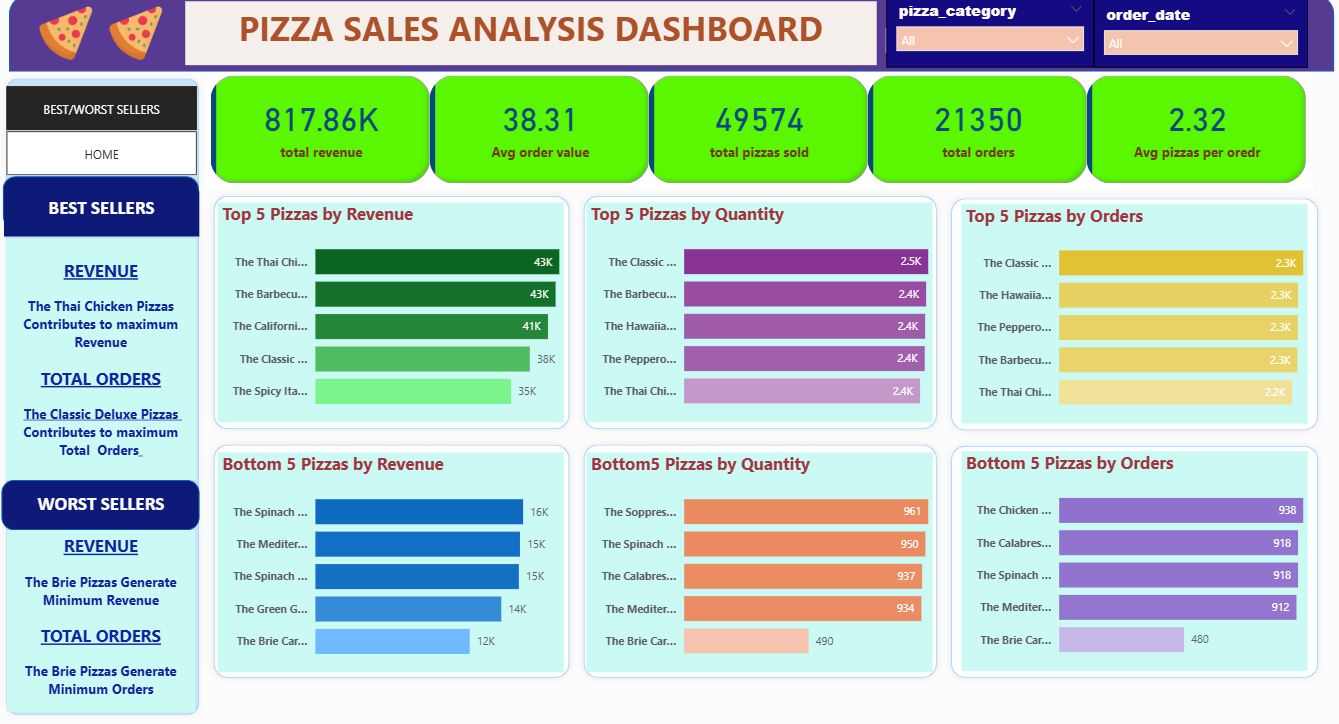

What the dashboard file says about the page in this screenshot:
{"tool":"powerbi","page":{"name":"BEST/WORST SELLERS","canvas":[1500,820],"ordinal":1},"visuals":[{"type":"cardVisual","fields":{"Data":["pizza_sales.total revenue","pizza_sales.Avg order value","pizza_sales.total pizzas sold","pizza_sales.total orders","pizza_sales.Avg pizzas per oredr"]},"box":[231.2,85,1232.5,130.9],"z":0},{"type":"shape","box":[11.8,0,1476.5,85.3],"z":1000},{"type":"shape","box":[231.2,215.9,412.2,275.7],"z":2000},{"type":"shape","box":[0,85.3,230.9,725],"z":3000},{"type":"shape","box":[4.2,201.9,218.6,58.5],"z":4000},{"type":"textbox","box":[5.6,218.6,217.3,50.1],"z":5000},{"type":"textbox","box":[7,271.6,213.1,268.8],"z":6000},{"type":"shape","box":[2.9,539.7,220.6,55.9],"z":7000},{"type":"textbox","box":[8.8,548.5,210.3,36.8],"z":8000},{"type":"textbox","box":[8.4,596.1,210.3,203.3],"z":9000},{"type":"slicer","fields":{"Values":["pizza_sales.pizza_category"]},"box":[977.9,2.9,230.9,77.9],"z":10000},{"type":"slicer","fields":{"Values":["pizza_sales.order_date"]},"box":[1208.8,7.4,238.2,77.9],"z":11000},{"type":"shape","box":[643.4,215.9,409.4,275.7],"z":12000},{"type":"shape","box":[1052.9,218.6,424.8,274.4],"z":13000},{"type":"shape","box":[231.2,493,412.2,275.7],"z":14000},{"type":"shape","box":[643.4,493,409.4,275.7],"z":15000},{"type":"shape","box":[1052.9,494.4,424.8,274.4],"z":16000},{"type":"barChart","title":"Top 5 Pizzas by Revenue","fields":{"Category":["pizza_sales.pizza_name"],"Y":["pizza_sales.total revenue"]},"box":[243.7,231.2,385.8,245.1],"z":17000},{"type":"barChart","title":"Bottom 5 Pizzas by Revenue","fields":{"Category":["pizza_sales.pizza_name"],"Y":["pizza_sales.total revenue"]},"box":[243.7,509.7,385.8,245.1],"z":18000},{"type":"barChart","title":"Top 5 Pizzas by Quantity","fields":{"Category":["pizza_sales.pizza_name"],"Y":["Sum(pizza_sales.quantity)"]},"box":[654.5,231.6,385.9,244.4],"z":19000},{"type":"barChart","title":"Bottom5 Pizzas by Quantity","fields":{"Category":["pizza_sales.pizza_name"],"Y":["Sum(pizza_sales.quantity)"]},"box":[654.5,509.8,385.9,244.4],"z":20000},{"type":"barChart","title":"Top 5 Pizzas by Orders","fields":{"Category":["pizza_sales.pizza_name"],"Y":["pizza_sales.total orders"]},"box":[1072.6,233.2,385.9,244.4],"z":21000},{"type":"barChart","title":"Bottom 5 Pizzas by Orders","fields":{"Category":["pizza_sales.pizza_name"],"Y":["pizza_sales.total orders"]},"box":[1072.6,508.1,385.9,244.4],"z":22000},{"type":"pageNavigator","box":[8,101.3,212.3,49.9],"z":23000},{"type":"pageNavigator","box":[8,151.2,212.3,49.9],"z":24000},{"type":"slicer","fields":{"Values":["pizza_sales.pizza_category"]},"box":[988.8,0,231.2,80.8],"z":25000},{"type":"slicer","fields":{"Values":["pizza_sales.order_date"]},"box":[1220,4.2,238.1,76.6],"z":26000},{"type":"image","box":[34.8,7,79.4,71],"z":27000},{"type":"image","box":[112.8,7,79.4,71],"z":28000},{"type":"textbox","box":[207.5,7,770.1,71],"z":29000}]}

Visuals, with their boxes in screenshot pixels (x1, y1, x2, y2), scaled from the page's 1500x820 canvas onto the 1339x724 screenshot:
cardVisual - pizza_sales.total revenue x pizza_sales.Avg order value: detection(206, 75, 1307, 191)
shape: detection(11, 0, 1329, 75)
shape: detection(206, 191, 574, 434)
shape: detection(0, 75, 206, 715)
shape: detection(4, 178, 199, 230)
textbox: detection(5, 193, 199, 237)
textbox: detection(6, 240, 196, 477)
shape: detection(3, 477, 200, 526)
textbox: detection(8, 484, 196, 517)
textbox: detection(7, 526, 195, 706)
slicer - pizza_sales.pizza_category: detection(873, 3, 1079, 71)
slicer - pizza_sales.order_date: detection(1079, 7, 1292, 75)
shape: detection(574, 191, 940, 434)
shape: detection(940, 193, 1319, 435)
shape: detection(206, 435, 574, 679)
shape: detection(574, 435, 940, 679)
shape: detection(940, 437, 1319, 679)
"Top 5 Pizzas by Revenue" barChart: detection(218, 204, 562, 421)
"Bottom 5 Pizzas by Revenue" barChart: detection(218, 450, 562, 666)
"Top 5 Pizzas by Quantity" barChart: detection(584, 204, 929, 420)
"Bottom5 Pizzas by Quantity" barChart: detection(584, 450, 929, 666)
"Top 5 Pizzas by Orders" barChart: detection(957, 206, 1302, 422)
"Bottom 5 Pizzas by Orders" barChart: detection(957, 449, 1302, 664)
pageNavigator: detection(7, 89, 197, 133)
pageNavigator: detection(7, 133, 197, 178)
slicer - pizza_sales.pizza_category: detection(883, 0, 1089, 71)
slicer - pizza_sales.order_date: detection(1089, 4, 1302, 71)
image: detection(31, 6, 102, 69)
image: detection(101, 6, 172, 69)
textbox: detection(185, 6, 873, 69)
